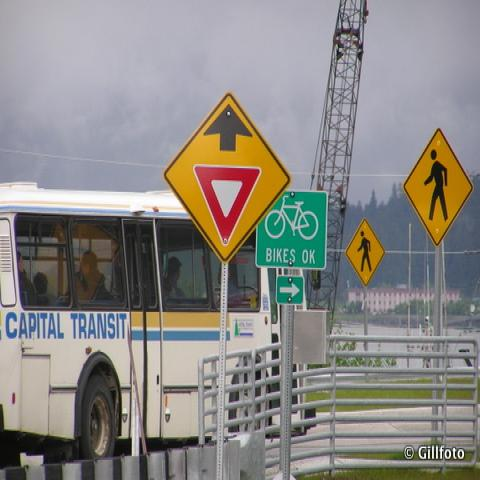bus: (1, 184, 283, 457)
